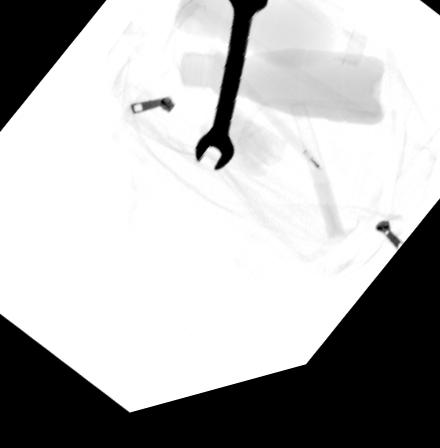Wrench: (193, 0, 271, 184)
